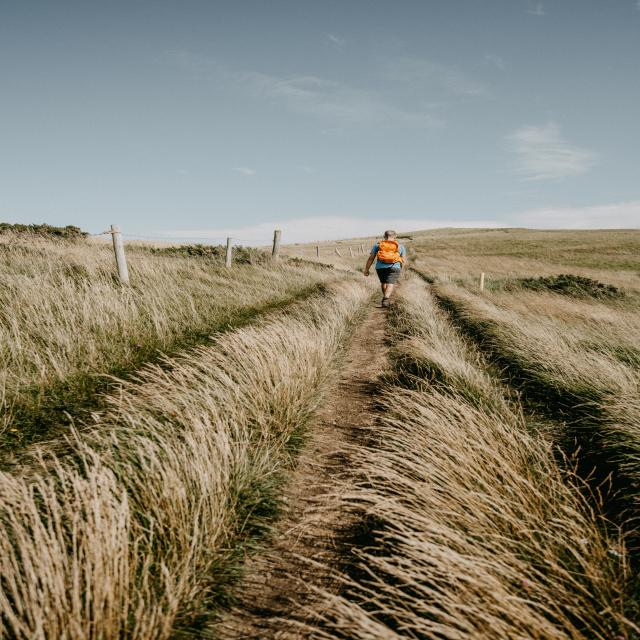backpack: (372, 239, 399, 262)
